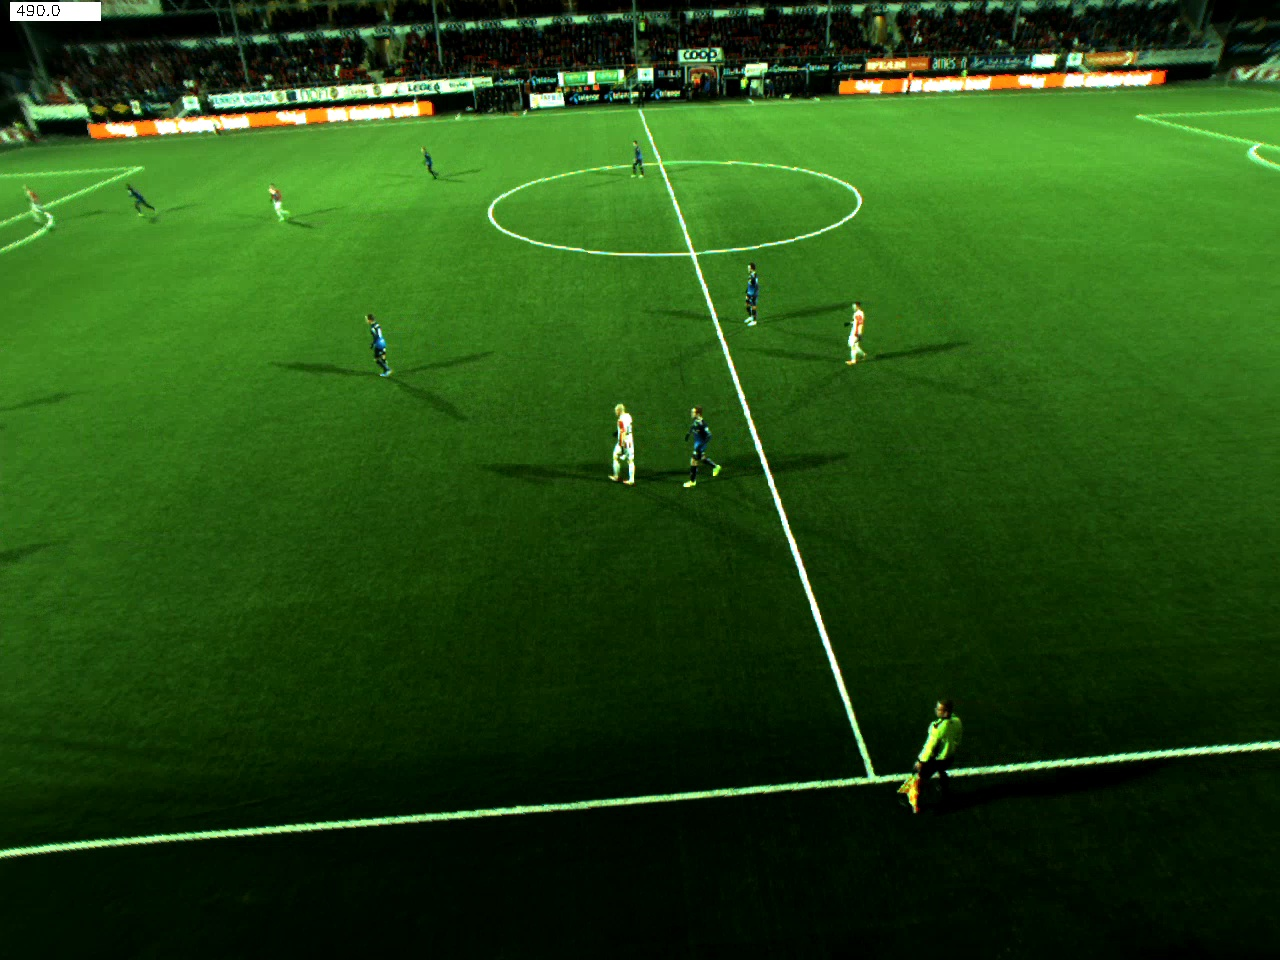blue: (359, 317, 405, 373), (124, 181, 169, 221), (737, 235, 756, 330), (627, 141, 666, 181), (419, 141, 439, 175)
red: (595, 389, 645, 496), (14, 171, 70, 231), (838, 292, 876, 366), (255, 164, 296, 227)
yellow: (902, 692, 967, 825)
